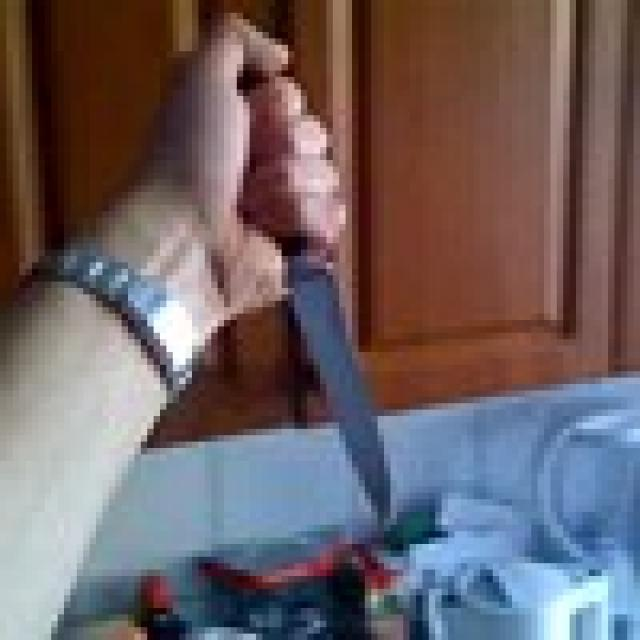Knife: (230, 58, 404, 518)
